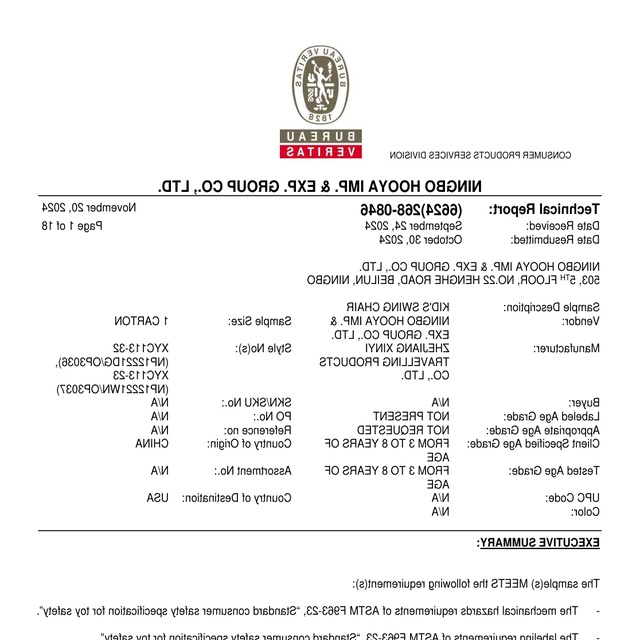bureau_veritas: (280, 41, 366, 163)
